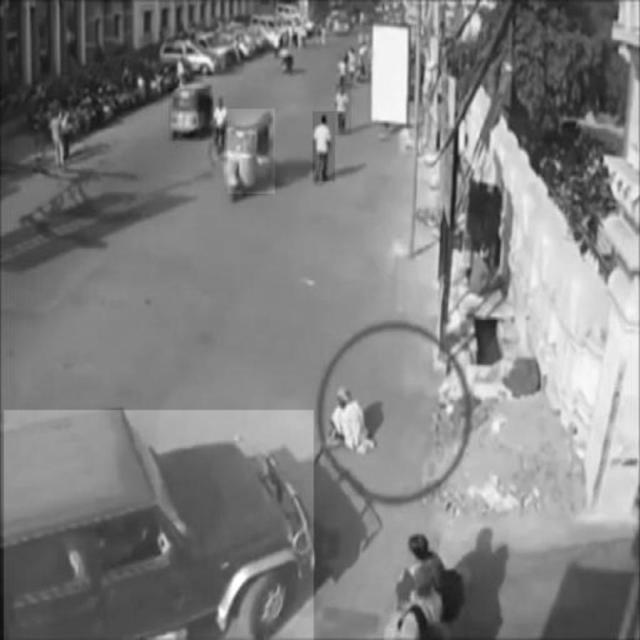person: (313, 112, 335, 182), (336, 84, 352, 135)
vehicle: (4, 410, 314, 640), (228, 110, 275, 194), (170, 89, 212, 141)
